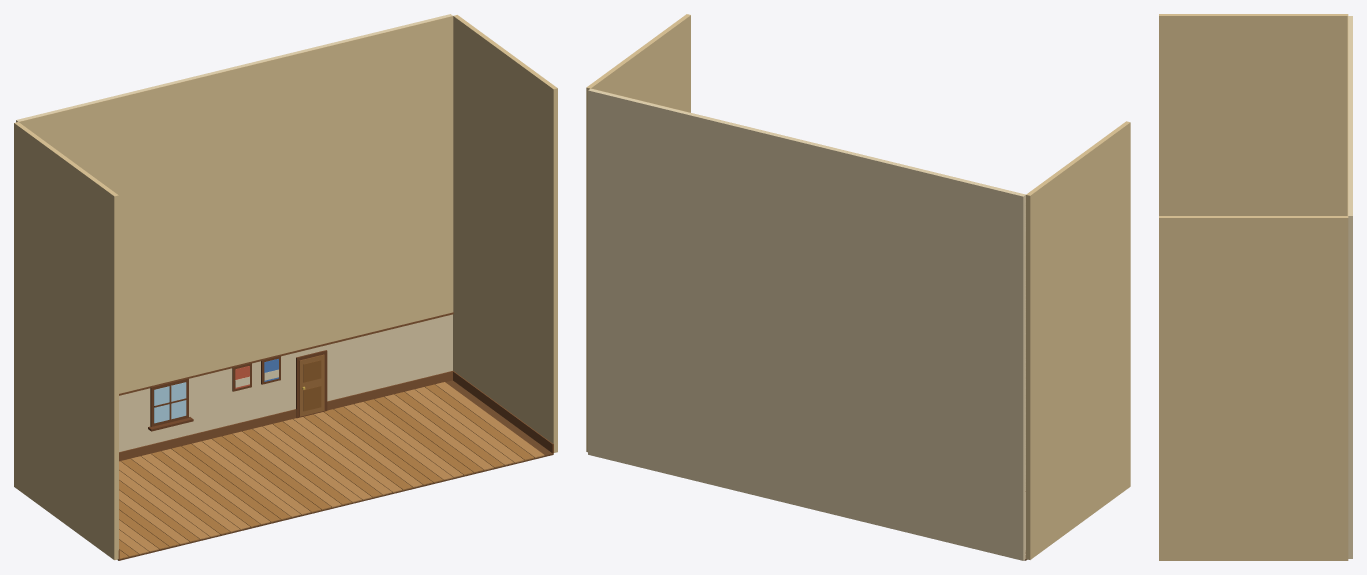
Rendered from room_wood.glb.
The picture shows the model from 3 angles, left to right: view 1: azimuth 30°, elevation 25°; view 2: azimuth 150°, elevation 25°; view 3: azimuth 270°, elevation 25°; orthographic projection. The views are drawn at different scales.
Parts seen in each view (by area): view 1: room; view 2: room; view 3: room.
Part boxes in pixels (x1,y1,x2,y2): room: (14,14,557,560); room: (586,14,1130,560); room: (1159,14,1352,560).
Size of the model in its own units: 30.6 by 24.11 by 12.3.
